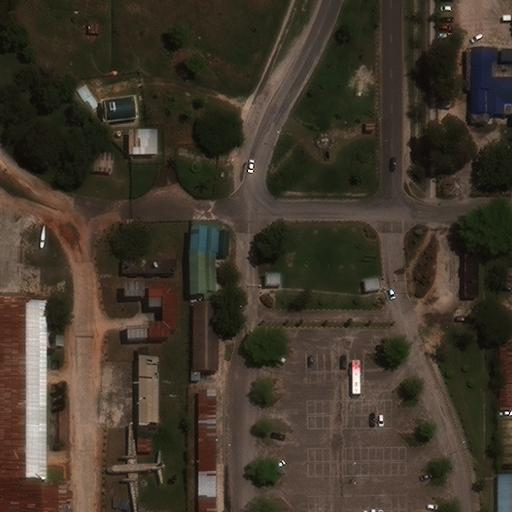Military Transport: (103, 425, 166, 511)
